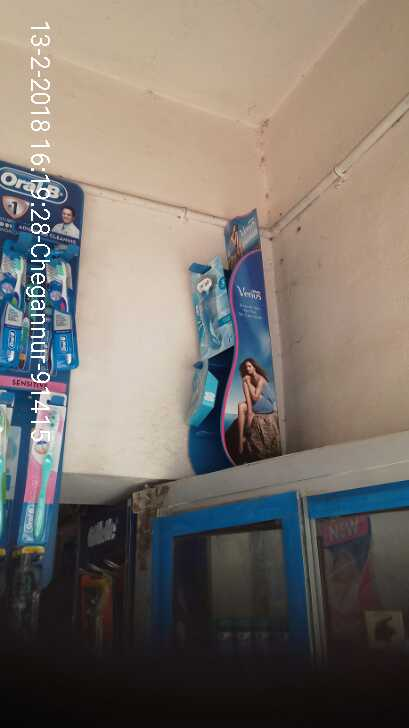beauty: (185, 263, 238, 365), (177, 369, 222, 435)
pharmacy: (26, 407, 61, 550), (47, 252, 88, 373), (1, 248, 30, 357)
